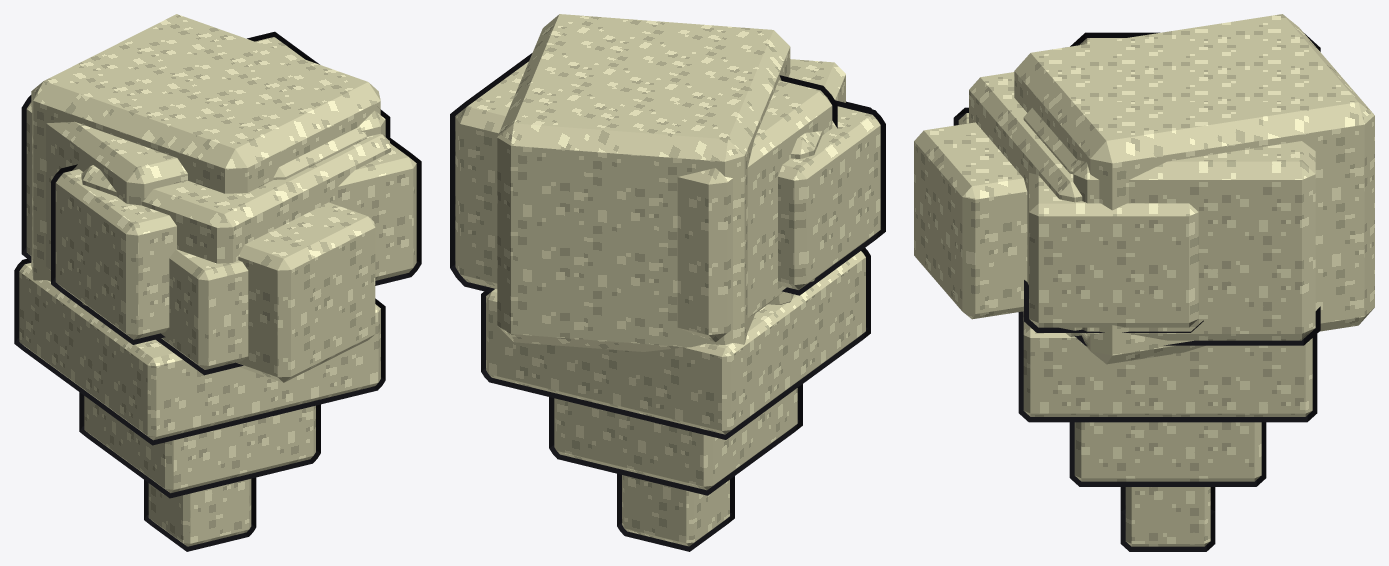
The model's file is env_storm_sky_rock.glb.
The picture shows the model from 3 angles, left to right: view 1: azimuth 30°, elevation 25°; view 2: azimuth 150°, elevation 25°; view 3: azimuth 270°, elevation 25°; orthographic projection. The views are drawn at different scales.
Parts seen in each view (by area): view 1: model; view 2: model; view 3: model.
Boxes of the visible parts, x1,y1,x2,y2 form: model: (14, 14, 421, 551); model: (450, 14, 885, 551); model: (914, 14, 1374, 551).
Bounding box in the file's own units: 1.3 × 1.81 × 1.61.
Materials: 2 (1 with a texture image).
